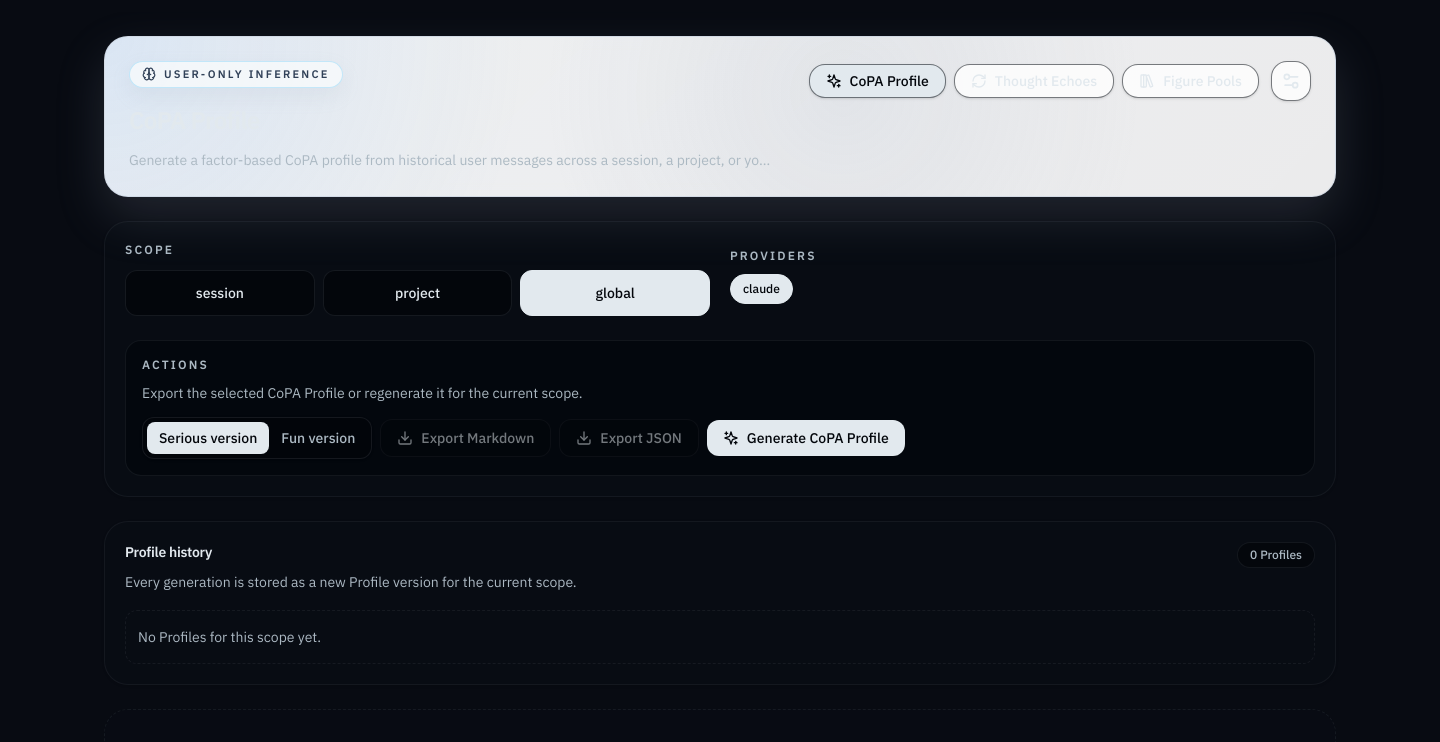
Test: CopaProfilePage resonance layout › renders resonance history as a compact dropdown selector
Click the button "Thought Echoes": (1034, 81) [954, 64, 1114, 98]
(page scrolled)
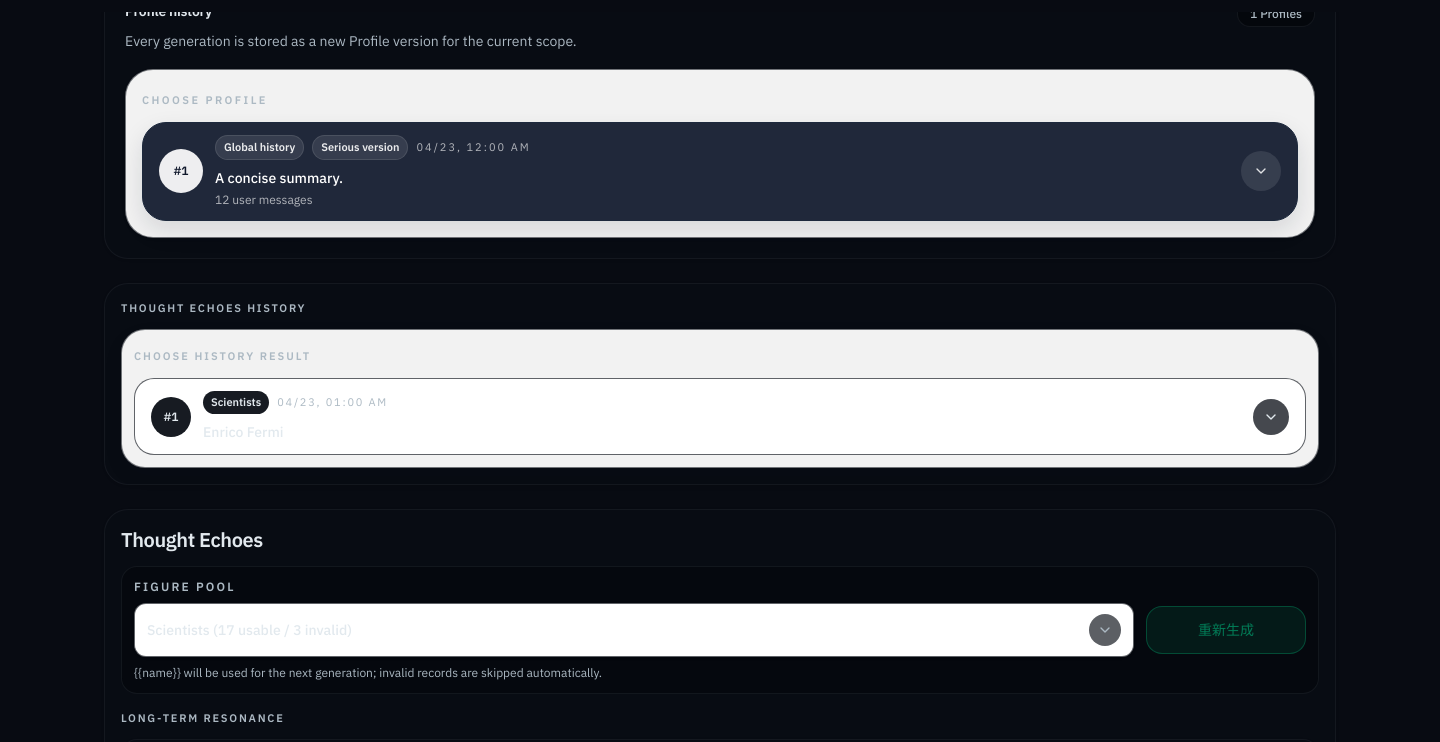
Check: the dropdown named "Choose history result" shows "Scientists", box [134, 378, 1306, 455]
